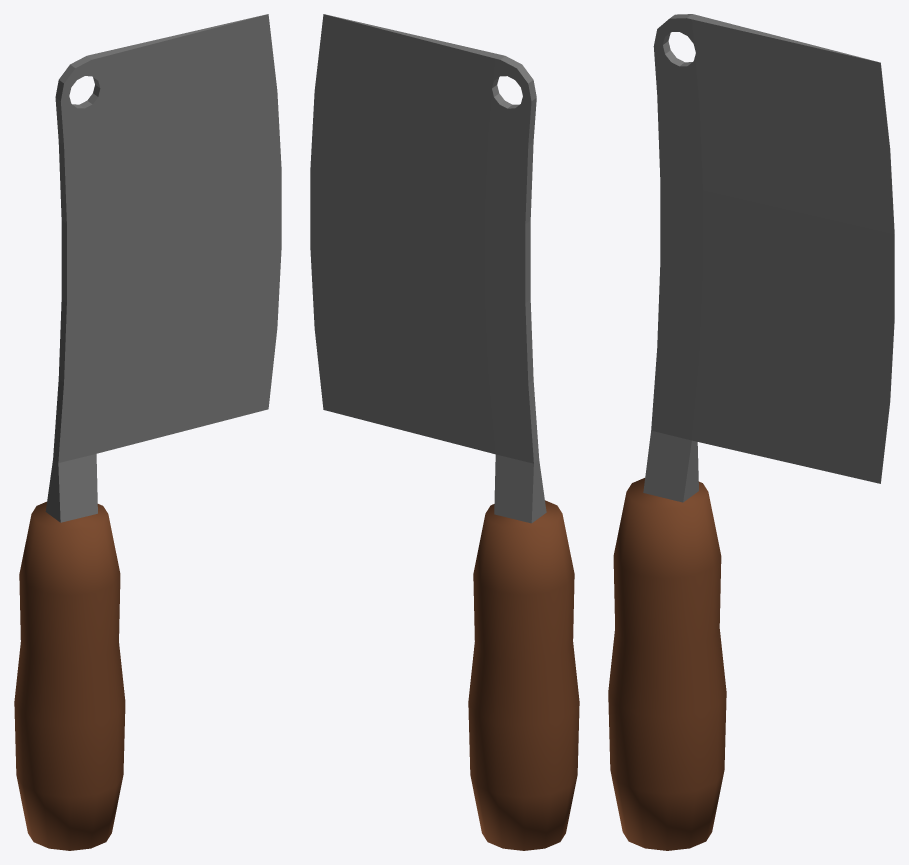
The model's file is cleaver.fbx.
3 views of the same model, side by side, from view 1: azimuth 30°, elevation 25°; view 2: azimuth 150°, elevation 25°; view 3: azimuth 330°, elevation 25° (orthographic). The views are drawn at different scales.
Parts seen in each view (by area): view 1: cleaver_blade, cleaver_handle; view 2: cleaver_blade, cleaver_handle; view 3: cleaver_blade, cleaver_handle.
Boxes of the visible parts, x1,y1,x2,y2 form: cleaver_blade: [45, 14, 281, 522]; cleaver_handle: [14, 501, 125, 850]; cleaver_blade: [310, 14, 546, 523]; cleaver_handle: [468, 500, 579, 850]; cleaver_blade: [643, 14, 894, 502]; cleaver_handle: [608, 478, 726, 850].
Size of the model in its own units: 20.68 by 58.41 by 7.64.
